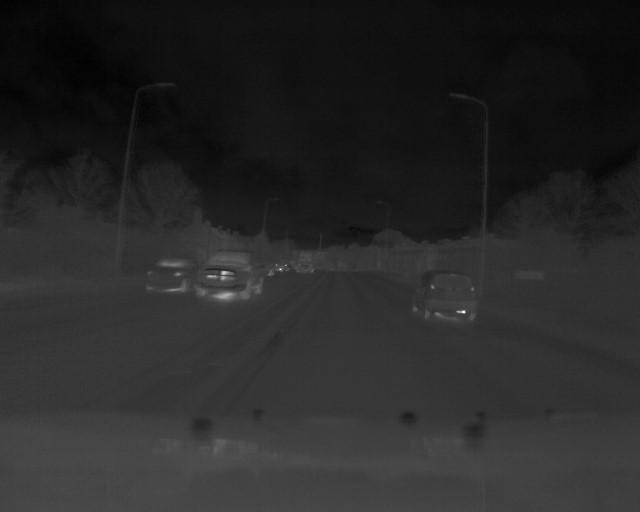car: (411, 259, 479, 324), (197, 247, 267, 301), (145, 249, 196, 295)
